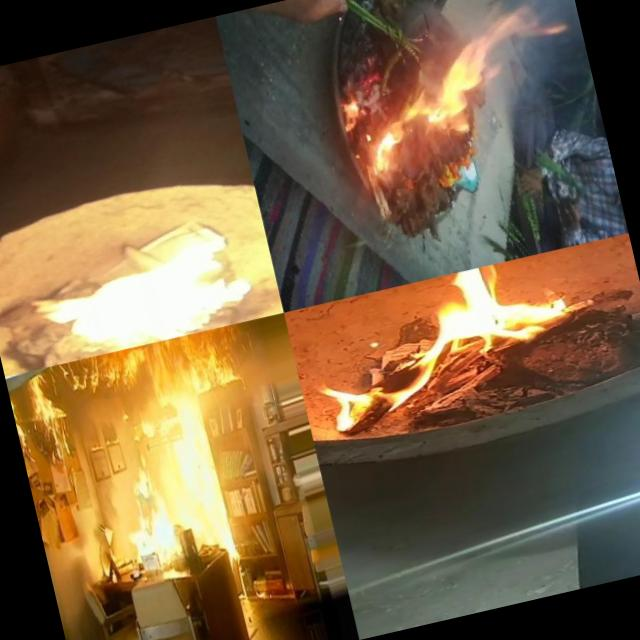fire: (284, 250, 583, 432), (28, 221, 284, 367), (64, 321, 256, 412), (392, 55, 504, 145), (108, 445, 185, 571), (336, 92, 414, 188), (451, 0, 569, 62), (20, 368, 79, 487), (8, 386, 30, 457)
smoke: (490, 39, 574, 132), (560, 0, 582, 37)
